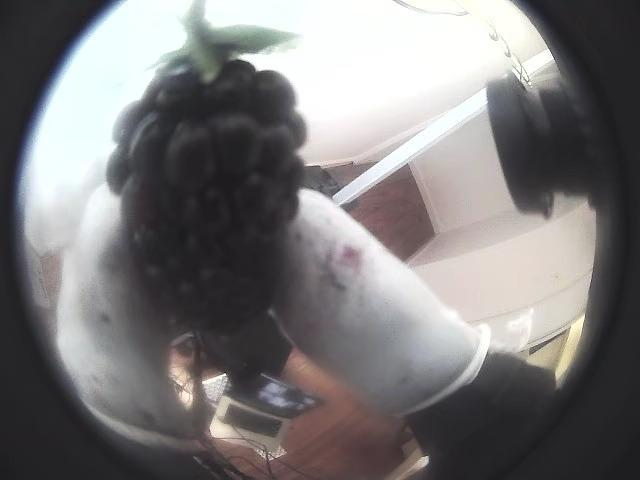berry: (106, 0, 306, 330)
gripper: (278, 190, 489, 412), (55, 184, 198, 448)
lense: (0, 0, 175, 479), (497, 0, 639, 479)
